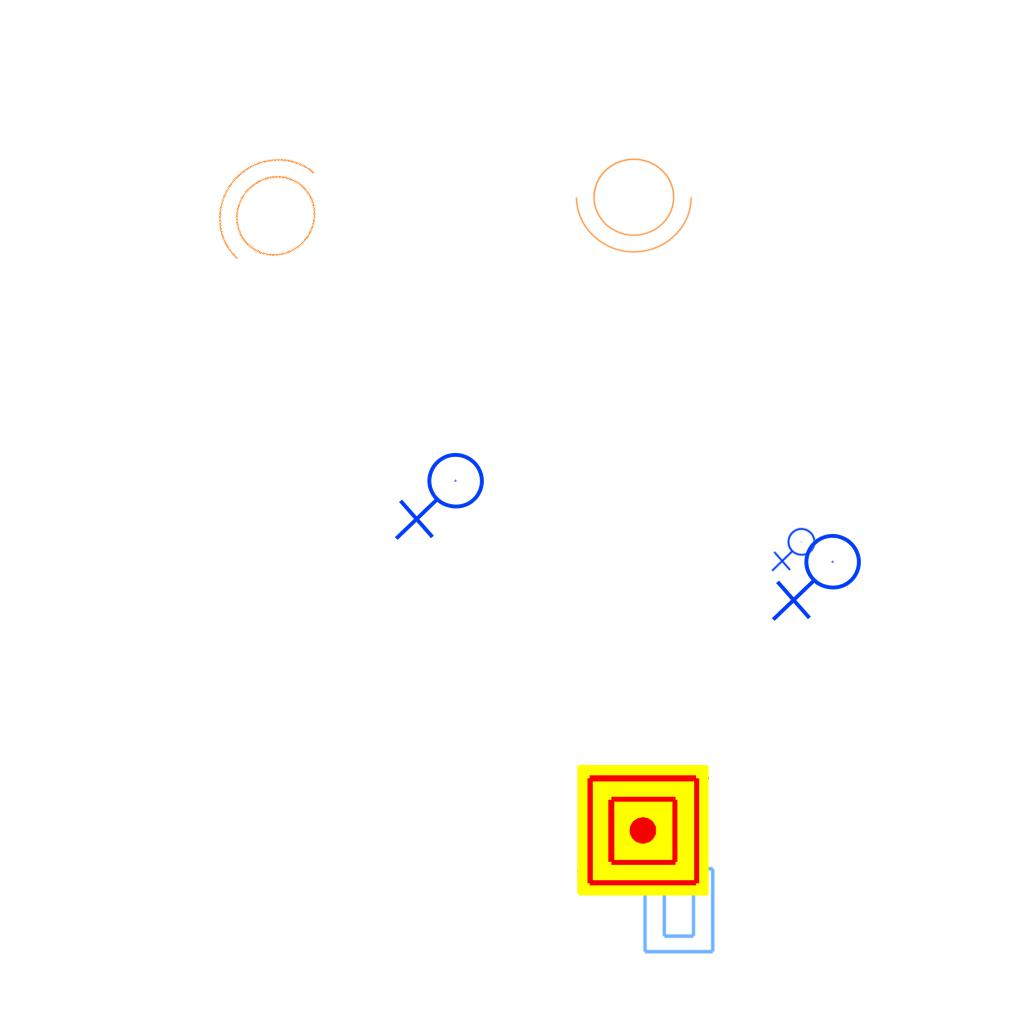Elektroanschluss_allgemein_230V_Geraeteanschlussdose_230V: (394, 451, 493, 545), (771, 532, 870, 626), (771, 527, 820, 574)
KFO_Kamera_mit_Festobjektiv: (641, 865, 718, 956)
NAM-Nichtautomatischer_Melder: (577, 764, 709, 896)
Scheinwerfer_fuer_Alarmbeleuchtung: (184, 128, 356, 302), (571, 146, 703, 258)
